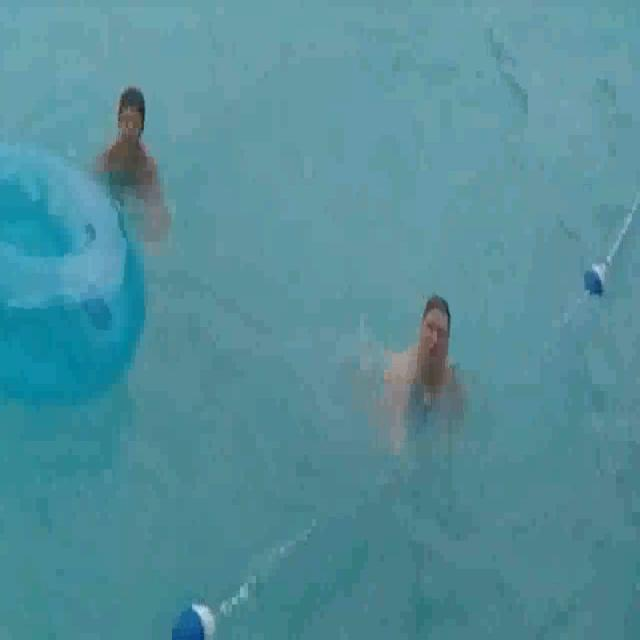Out of Water: (359, 284, 466, 450)
